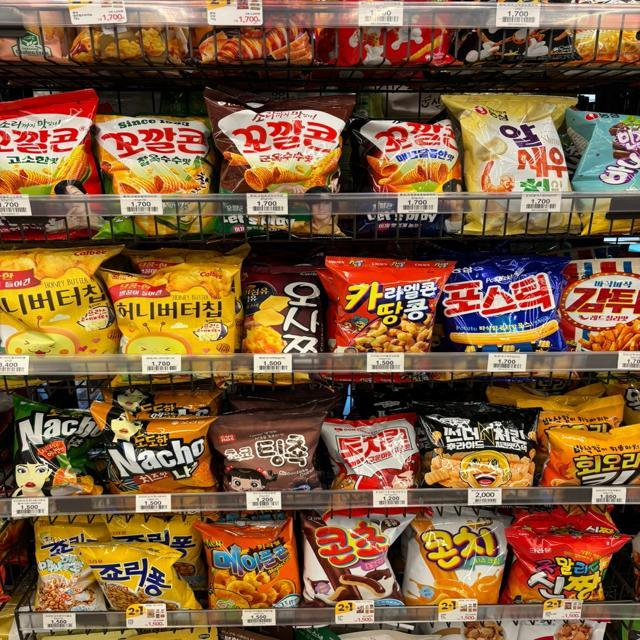product: (213, 95, 350, 232), (464, 91, 573, 235), (100, 111, 212, 234), (1, 93, 96, 236), (328, 260, 440, 376), (2, 242, 109, 363), (299, 511, 407, 625), (446, 264, 557, 374), (106, 270, 240, 361), (96, 410, 215, 512), (425, 414, 538, 509), (408, 513, 507, 621), (364, 116, 457, 230), (237, 261, 327, 376), (197, 522, 296, 624), (219, 419, 319, 511), (12, 395, 97, 502), (325, 412, 421, 500), (96, 543, 189, 631), (544, 422, 638, 506)
